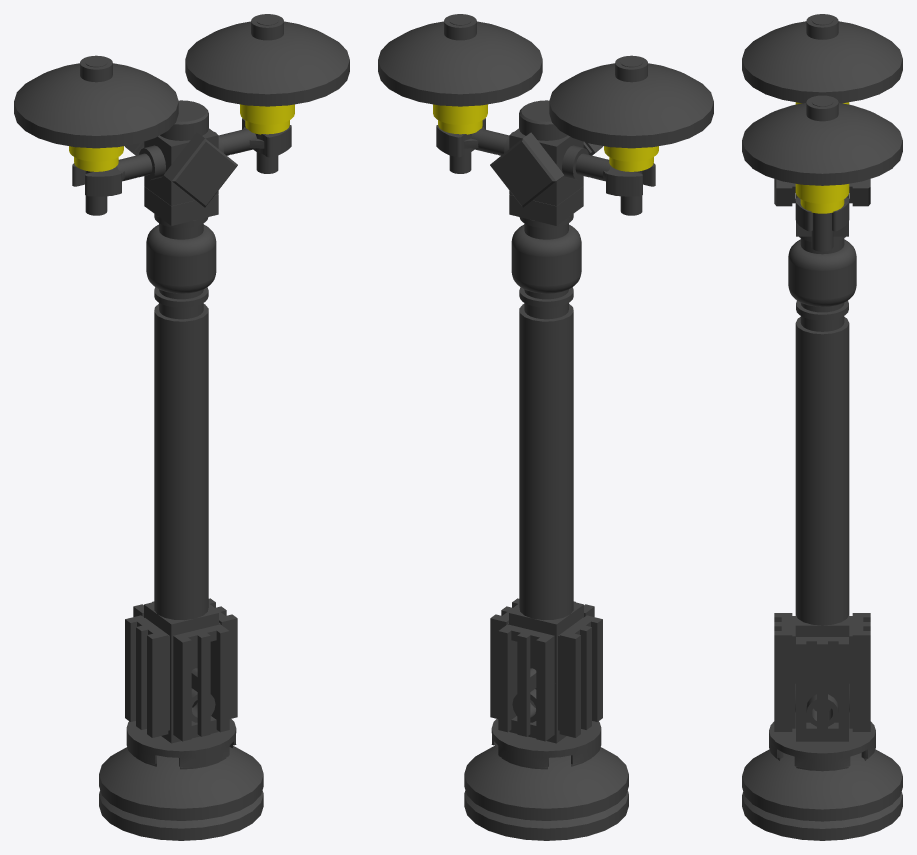
The model's file is lamp.fbx.
3 views of the same model, side by side, from view 1: azimuth 30°, elevation 25°; view 2: azimuth 150°, elevation 25°; view 3: azimuth 270°, elevation 25° (orthographic). The views are drawn at different scales.
Parts seen in each view (by area): view 1: lamp; view 2: lamp; view 3: lamp.
Boxes of the visible parts, x1=… form: lamp: x1=14, y1=14, x2=349, y2=840; lamp: x1=378, y1=14, x2=713, y2=840; lamp: x1=742, y1=14, x2=902, y2=840.
Bounding box in the file's own units: 132 × 307 × 60.
